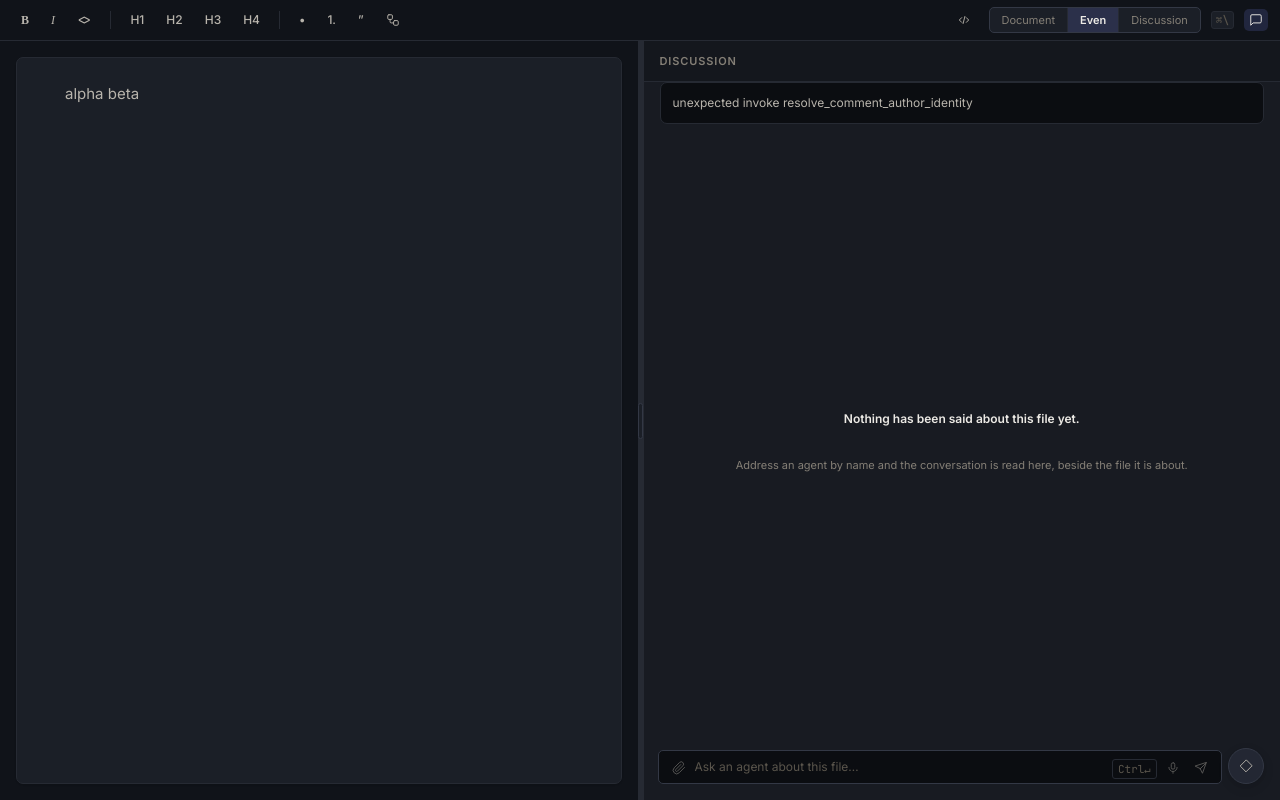
Test case: closing the panel (EFR-FR-CELO) › closes on the panel's close control
Step 1. Click the button named "Edit as Markdown source" → (964, 20), box [948, 6, 978, 34]
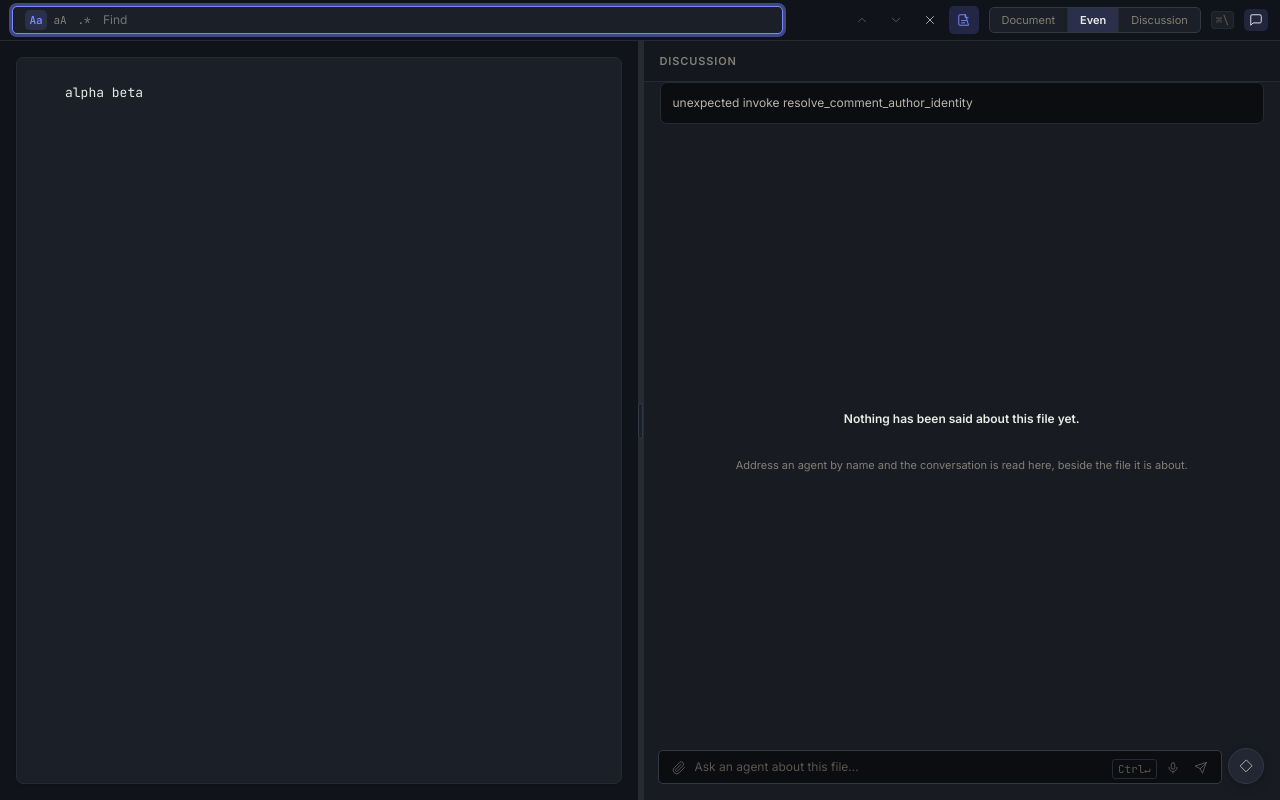
Step 2. Click the button named "Close find" → (930, 20), box [914, 6, 944, 34]
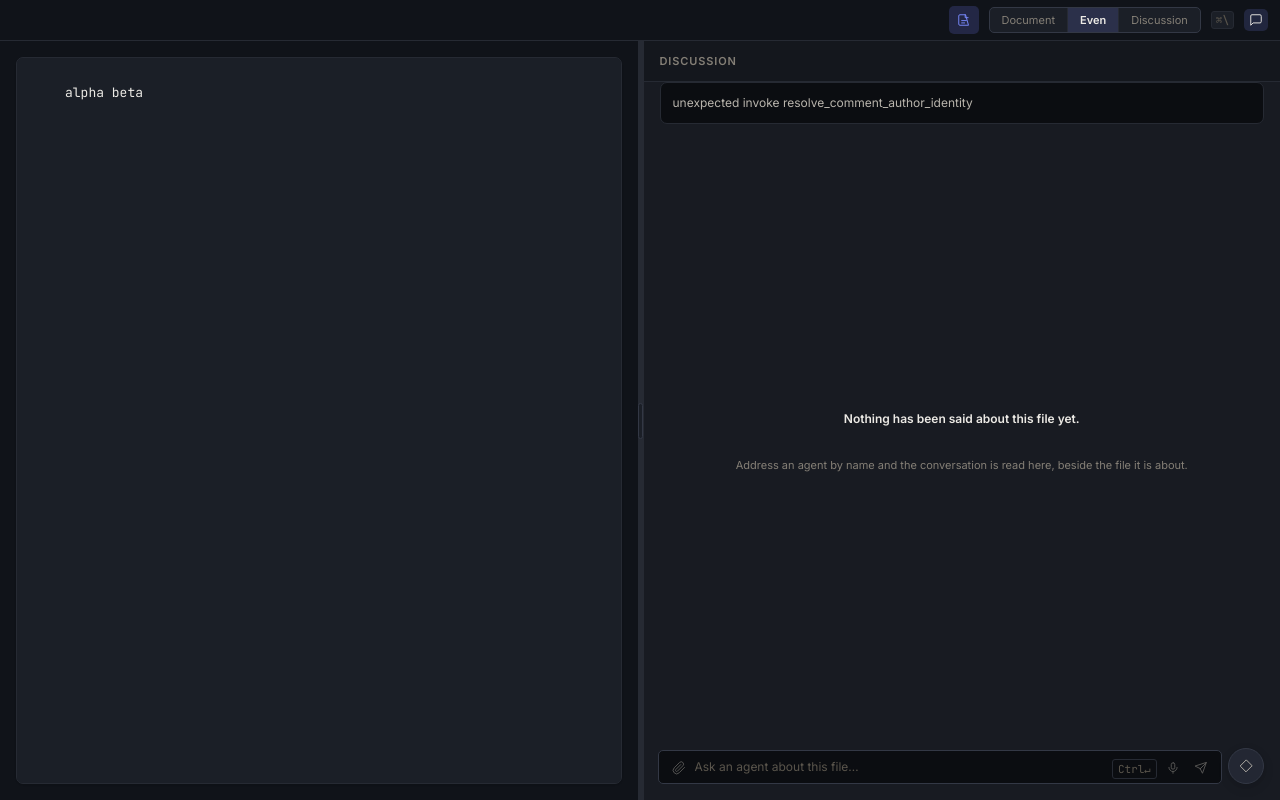
Expected: the element with test id "find-panel" is gone
